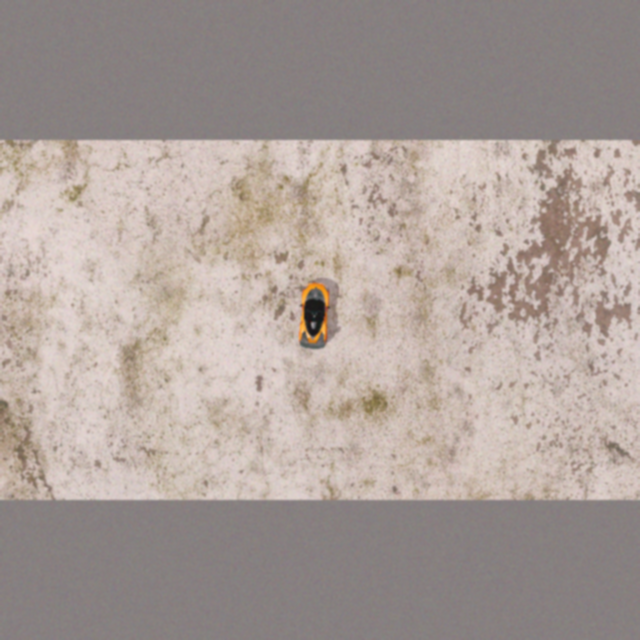car: (297, 281, 332, 350)
